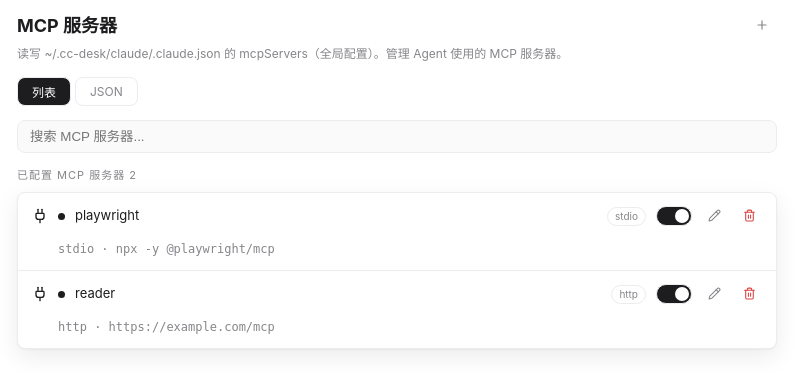
it: McpSettings › 加载、搜索 MCP 列表并展示传输类型
Expected: the text "playwright" is shown, left=75, top=207, right=139, bottom=223
Expected: the text "stdio" is shown, left=607, top=206, right=646, bottom=226
Type "reader" into the field with placeholder "搜索 MCP 服务器...".
click(397, 136); type("reader")  # box left=17, top=120, right=777, bottom=153
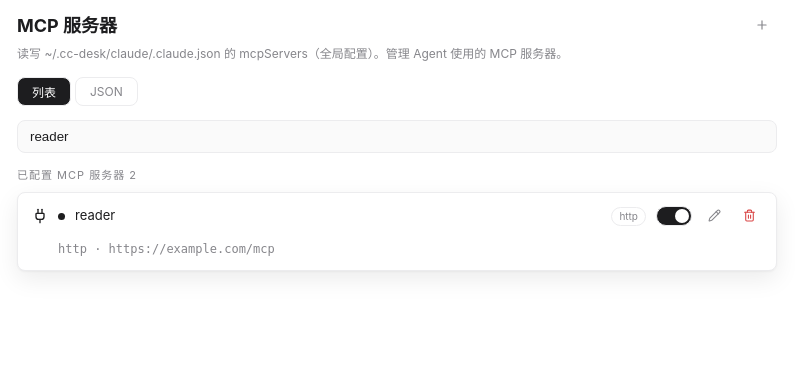
Expected: the text "reader" is shown, left=75, top=207, right=115, bottom=223
Expected: the text "playwright" is gone
